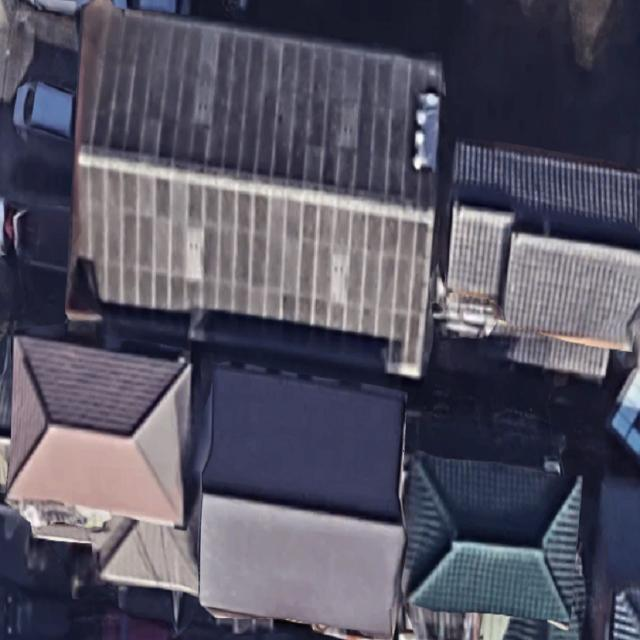Batiment: (68, 4, 444, 375), (199, 365, 406, 638), (448, 141, 640, 379), (8, 338, 191, 524), (404, 453, 581, 627)
